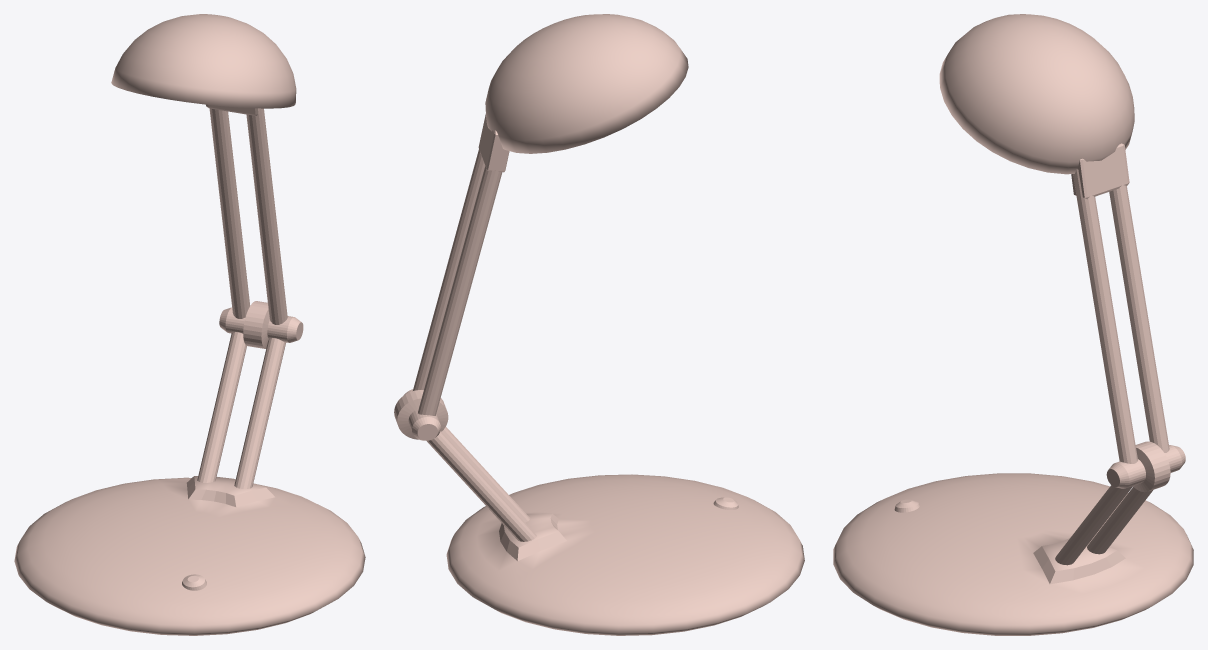
The model's file is lamp.fbx.
3 renders of one model, left to right at view 1: azimuth 30°, elevation 25°; view 2: azimuth 150°, elevation 25°; view 3: azimuth 270°, elevation 25°, orthographic. The views are drawn at different scales.
Parts seen in each view (by area): view 1: Lamp; view 2: Lamp; view 3: Lamp.
Part boxes in pixels (x1,y1,x2,y2): Lamp: (14,14,365,635); Lamp: (394,14,804,635); Lamp: (833,14,1193,635).
Bounding box in the file's own units: 256 × 416 × 245.
